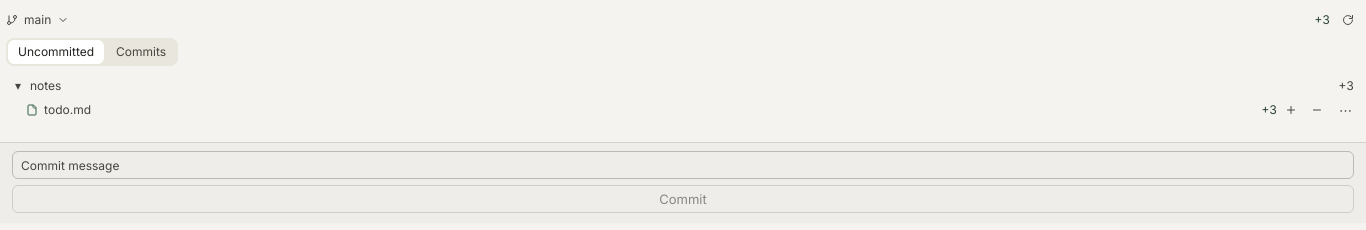
ChangesSurface actions › stages without asking and re-reads the status immediately, not on the poll
Click the button named "Stage notes/todo.md" at (1291, 110), box x1=1279 y1=98 x2=1303 y2=122
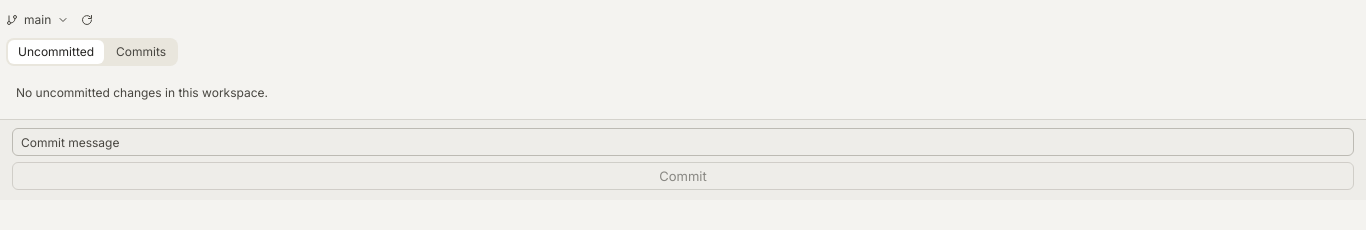
Expected: the text "No uncommitted changes in this workspace." is shown, x1=16 y1=85 x2=268 y2=100
